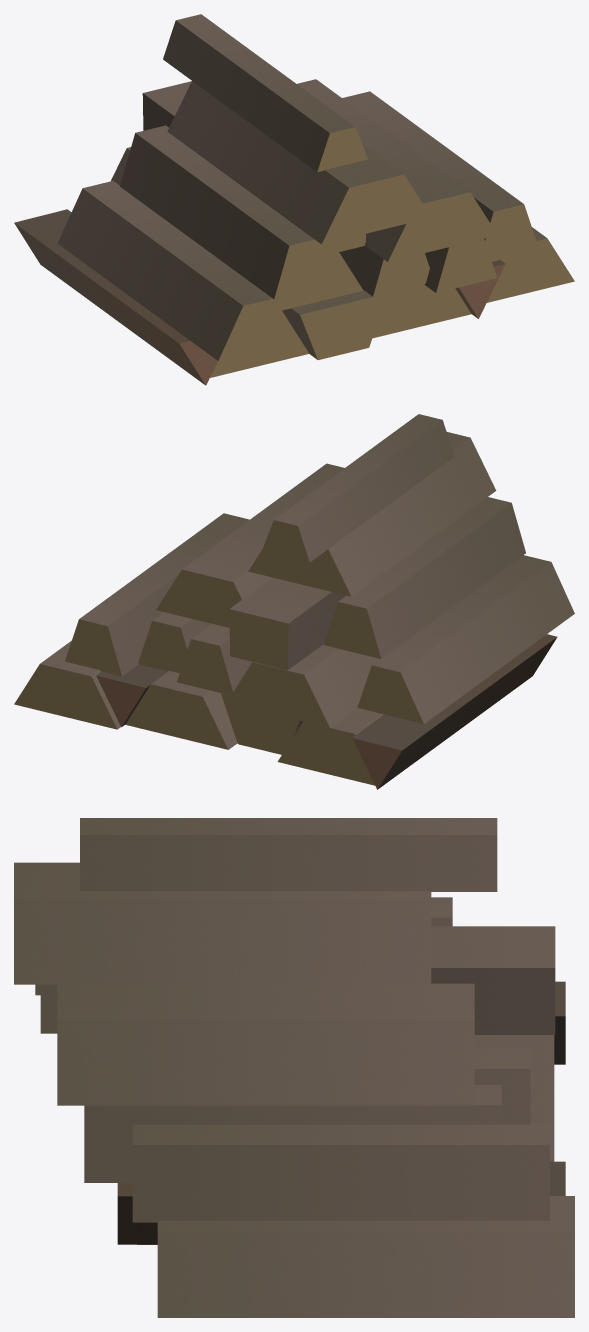
Rendered from Lumber_2.fbx.
3 views of the same model, one above another, from view 1: azimuth 30°, elevation 25°; view 2: azimuth 150°, elevation 25°; view 3: azimuth 270°, elevation 25° (orthographic). The views are drawn at different scales.
Parts seen in each view (by area): view 1: pCylinder180; view 2: pCylinder180; view 3: pCylinder180.
Boxes of the visible parts, box(x1,y1,x2,y2) form: pCylinder180: box(14, 14, 574, 385); pCylinder180: box(14, 414, 574, 789); pCylinder180: box(14, 818, 574, 1317).
Bounding box in the file's own units: 112 × 61.45 × 97.82.
